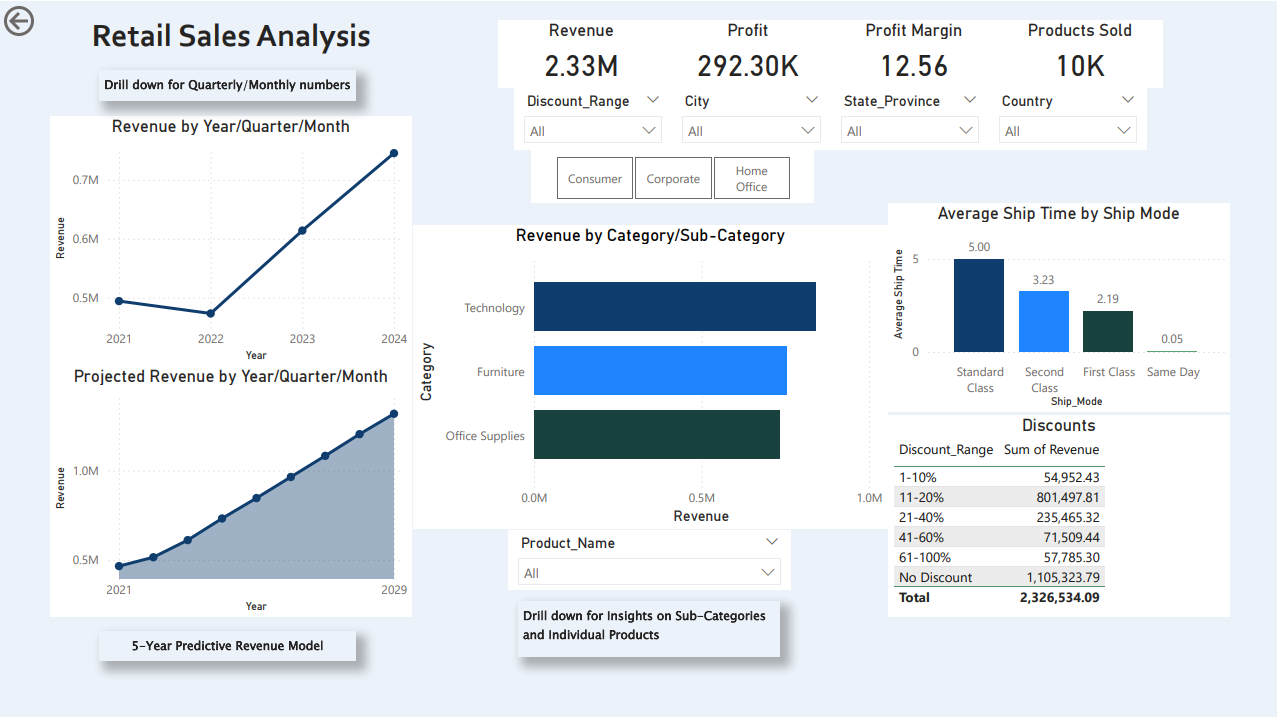

Layout of this report page (visuals, bound fields, positions):
{"tool":"powerbi","page":{"name":"Page 1","canvas":[1280,720],"ordinal":0},"visuals":[{"type":"card","title":"Products Sold","fields":{"Values":["Sum(Orders1.Products_Purchased)"]},"box":[997.7,19,166.1,67.5],"z":0},{"type":"card","title":"Profit Margin","fields":{"Values":["Orders1.Profit Margin"]},"box":[831.7,19,166.1,67.5],"z":1000},{"type":"card","title":"Profit","fields":{"Values":["Sum(Orders1.Profit)"]},"box":[665.6,19,166.1,67.5],"z":2000},{"type":"card","title":"Revenue","fields":{"Values":["Sum(Orders1.Revenue)"]},"box":[499.5,19,166.1,67.5],"z":3000},{"type":"barChart","title":"Revenue by Category/Sub-Category","fields":{"Category":["Orders1.Category","Products3.Sub_Category","Products3.Product_Name"],"Series":["Orders1.Category"],"Y":["Sum(Orders1.Revenue)"]},"box":[414,223.8,475,304.5],"z":4000},{"type":"slicer","fields":{"Values":["C6.Segment"]},"box":[531.8,149,282.7,53.1],"z":5000},{"type":"columnChart","title":"Average Ship Time by Ship Mode","fields":{"Category":["Shipping1.Ship_Mode"],"Y":["Avg(Shipping1.Time Between Dates)"],"Series":["Shipping1.Ship_Mode"]},"box":[889.1,202.1,341.9,209.3],"z":6000},{"type":"lineChart","title":"Revenue by Year/Quarter/Month","fields":{"Category":["Shipping1.Order_Date.Variation.Date Hierarchy.Year","Shipping1.Order_Date.Variation.Date Hierarchy.Quarter","Shipping1.Order_Date.Variation.Date Hierarchy.Month","Shipping1.Order_Date.Variation.Date Hierarchy.Day"],"Y":["Sum(Orders1.Revenue)"]},"box":[51,115.3,362.4,250.1],"z":7000},{"type":"slicer","fields":{"Values":["Orders1.Discount_Range"]},"box":[515,86.5,158.3,62],"z":8000},{"type":"actionButton","box":[0,0,100,40],"z":9000},{"type":"slicer","fields":{"Values":["Products3.Product_Name"]},"box":[509.3,528.7,282.7,60.2],"z":10000},{"type":"slicer","fields":{"Values":["C6.City"]},"box":[673.3,86.5,158.3,62],"z":11000},{"type":"slicer","fields":{"Values":["C6.State_Province"]},"box":[831.7,86.5,158.3,62],"z":12000},{"type":"slicer","fields":{"Values":["C6.Country"]},"box":[990,86.5,158.3,62],"z":13000},{"type":"textbox","box":[100,69.4,257.2,30.6],"z":14000},{"type":"textbox","box":[518.5,600.2,262.3,56.1],"z":15000},{"type":"lineChart","title":"Projected Revenue by Year/Quarter/Month","fields":{"Category":["p1forecast.ds.Variation.Date Hierarchy.Year","p1forecast.ds.Variation.Date Hierarchy.Quarter","p1forecast.ds.Variation.Date Hierarchy.Month","p1forecast.ds.Variation.Date Hierarchy.Day"],"Y":["Sum(p1forecast.yhat)"]},"box":[51,365.4,362.4,250.1],"z":16000},{"type":"textbox","box":[100,629.8,257.2,30.6],"z":17000},{"type":"textbox","box":[55.1,10,355.2,67.4],"z":18000},{"type":"tableEx","title":"Discounts","fields":{"Values":["Orderss.Discount_Range","Sum(Orderss.Revenue)"]},"box":[889.1,414.4,341.9,201.1],"z":19000}]}

Visuals, with their boxes in screenshot pixels (x1, y1, x2, y2), scaled from the page's 1280x720 canvas onto the 1277x717 screenshot:
"Products Sold" card: rect(995, 19, 1161, 86)
"Profit Margin" card: rect(830, 19, 995, 86)
"Profit" card: rect(664, 19, 830, 86)
"Revenue" card: rect(498, 19, 664, 86)
"Revenue by Category/Sub-Category" barChart: rect(413, 223, 887, 526)
slicer - C6.Segment: rect(531, 148, 813, 201)
"Average Ship Time by Ship Mode" columnChart: rect(887, 201, 1228, 410)
"Revenue by Year/Quarter/Month" lineChart: rect(51, 115, 412, 364)
slicer - Orders1.Discount_Range: rect(514, 86, 672, 148)
actionButton: rect(0, 0, 100, 40)
slicer - Products3.Product_Name: rect(508, 526, 790, 586)
slicer - C6.City: rect(672, 86, 830, 148)
slicer - C6.State_Province: rect(830, 86, 988, 148)
slicer - C6.Country: rect(988, 86, 1146, 148)
textbox: rect(100, 69, 356, 100)
textbox: rect(517, 598, 779, 654)
"Projected Revenue by Year/Quarter/Month" lineChart: rect(51, 364, 412, 613)
textbox: rect(100, 627, 356, 658)
textbox: rect(55, 10, 409, 77)
"Discounts" tableEx: rect(887, 413, 1228, 613)
